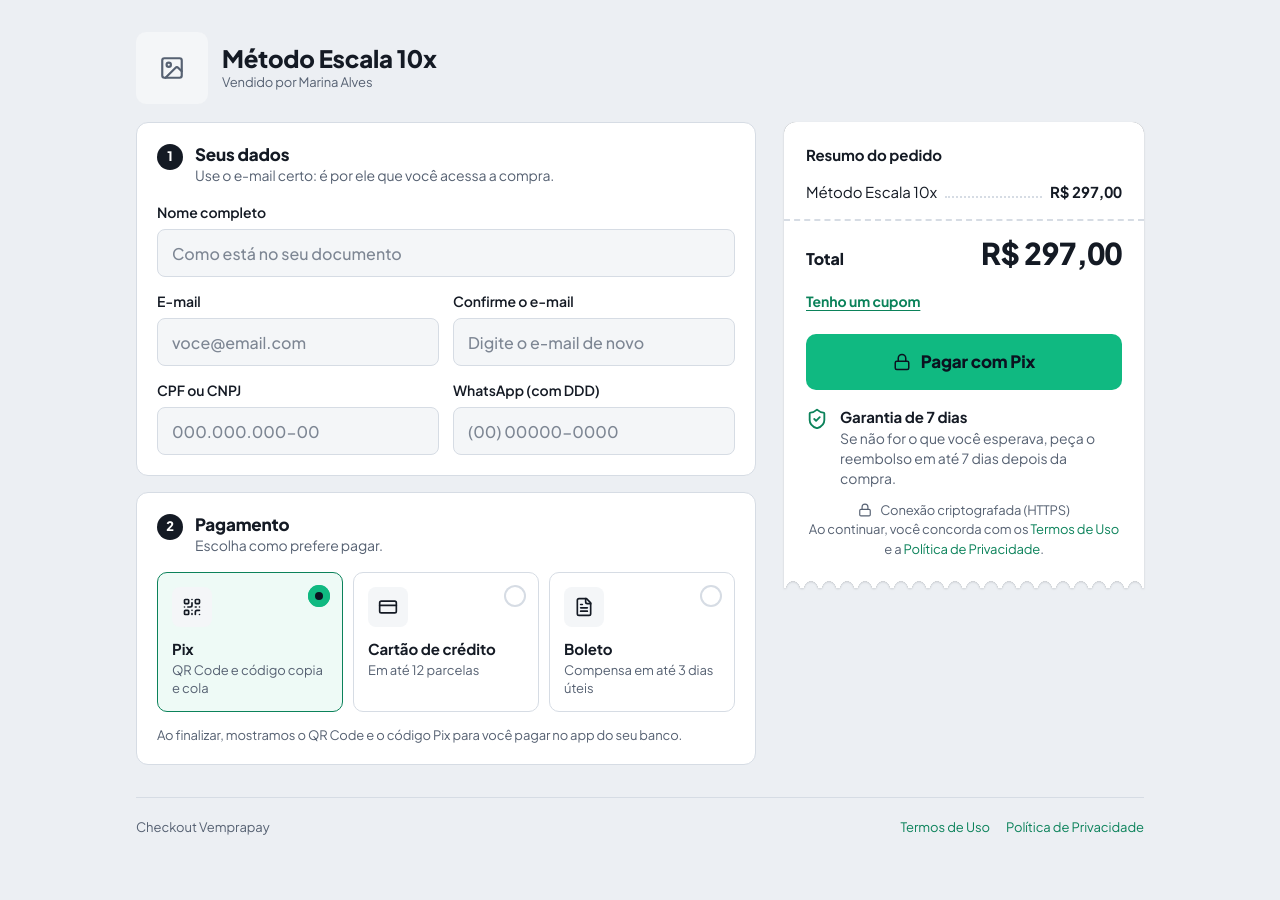
checkout público: preenchimento › pede a confirmação do e-mail quando o vendedor liga
Check: the heading "Método Escala 10x" is shown, box [222,43,437,73]
Step 1. Type "Maria Souza Lima" into the field labelled "Nome completo" → {"x": 446, "y": 253}, box [157,229,735,277]
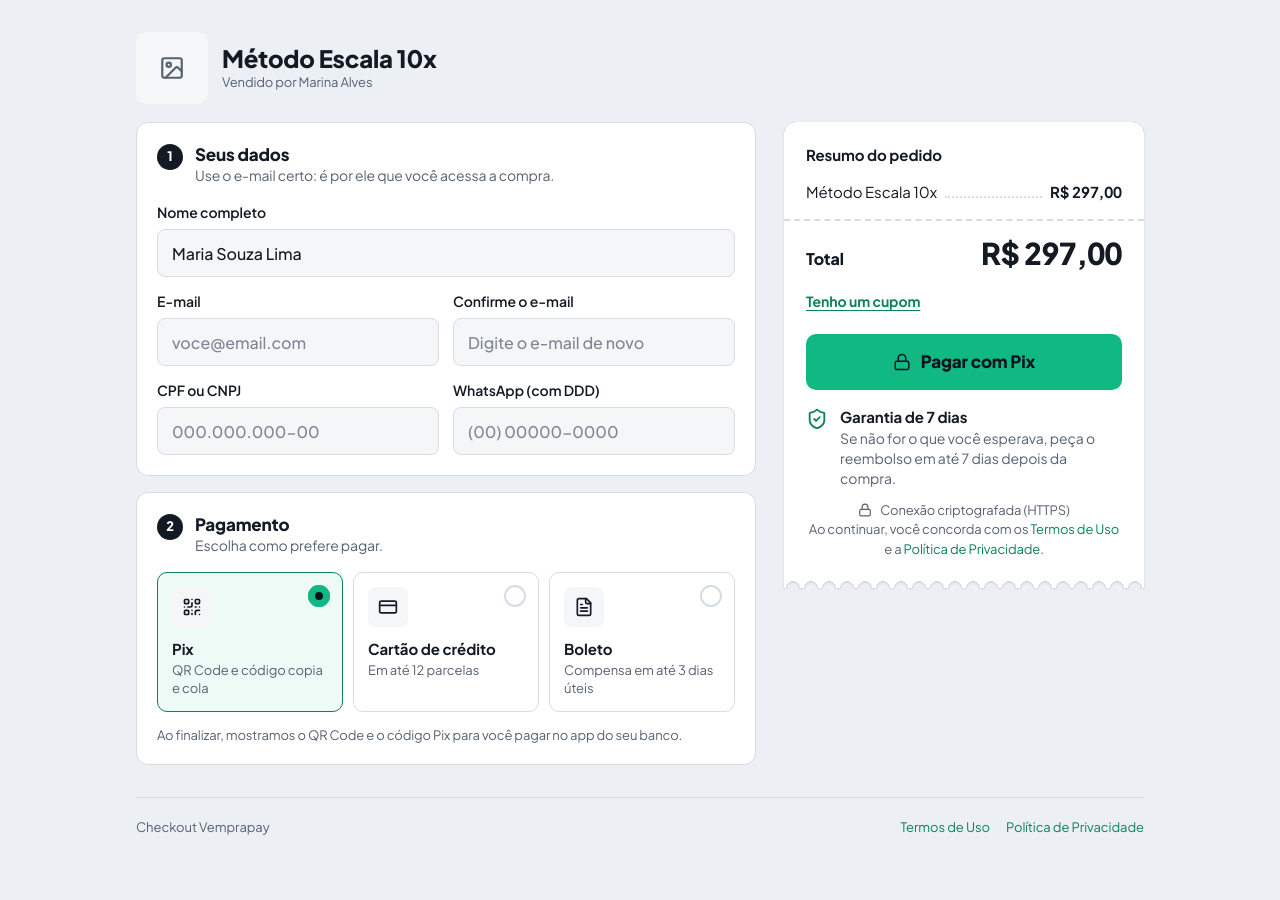
Step 2. Type "Maria@Exemplo.com" into the field labelled "E-mail" → {"x": 298, "y": 342}, box [157,318,439,366]
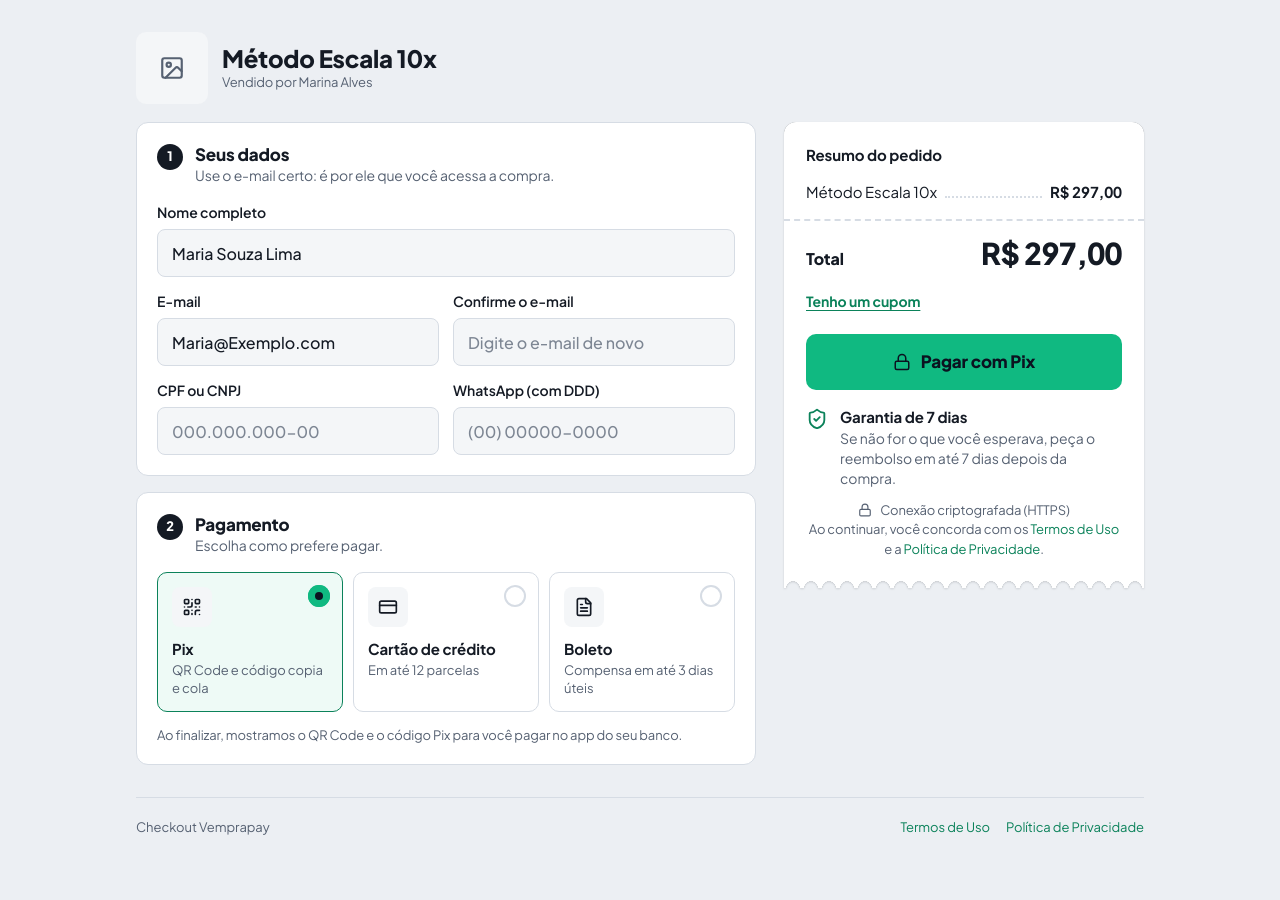
Step 3. Type "52998224725" into the field labelled "CPF ou CNPJ" → {"x": 298, "y": 431}, box [157,407,439,455]
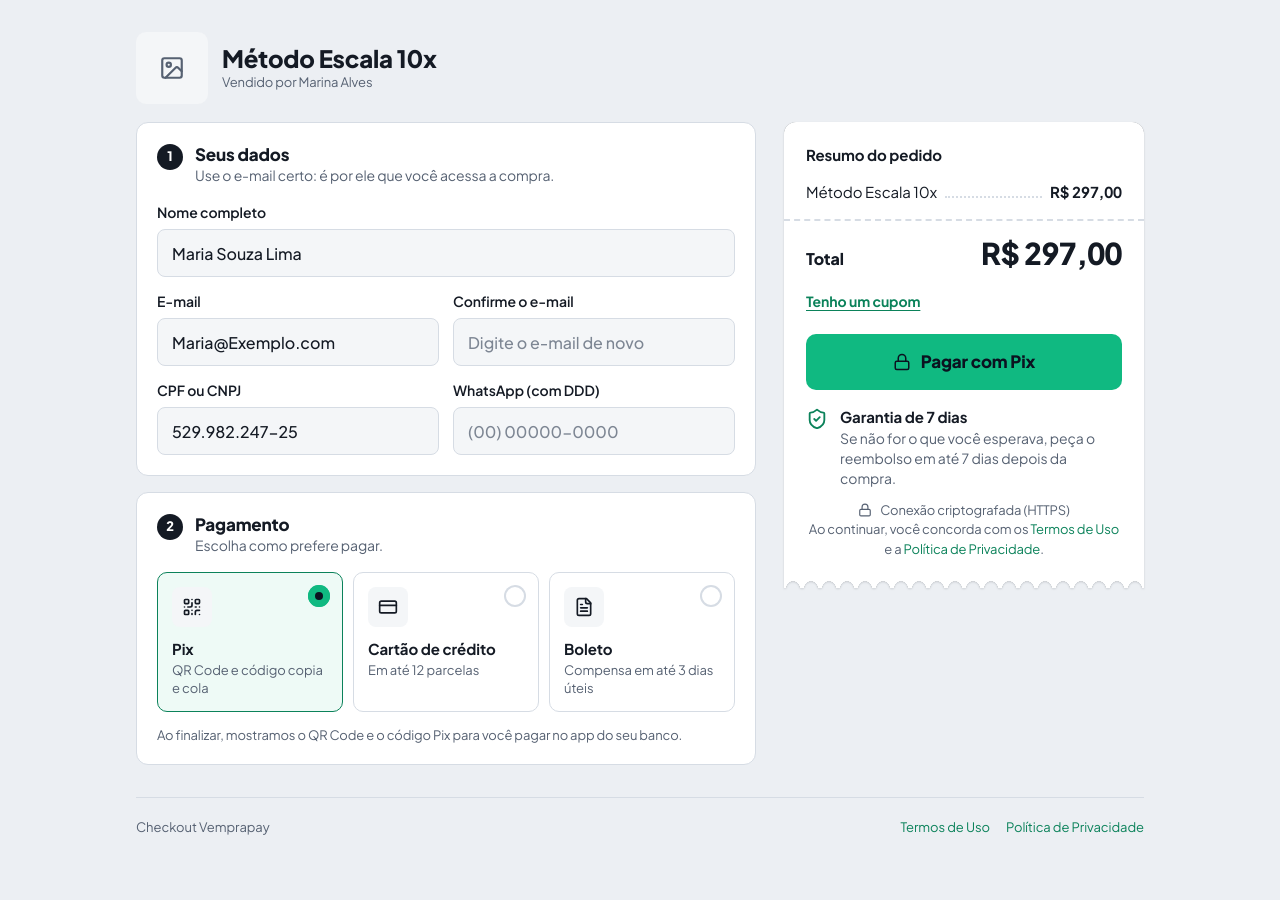
Step 4. Type "44999991234" into the field labelled "WhatsApp (com DDD)" → {"x": 594, "y": 431}, box [453,407,735,455]
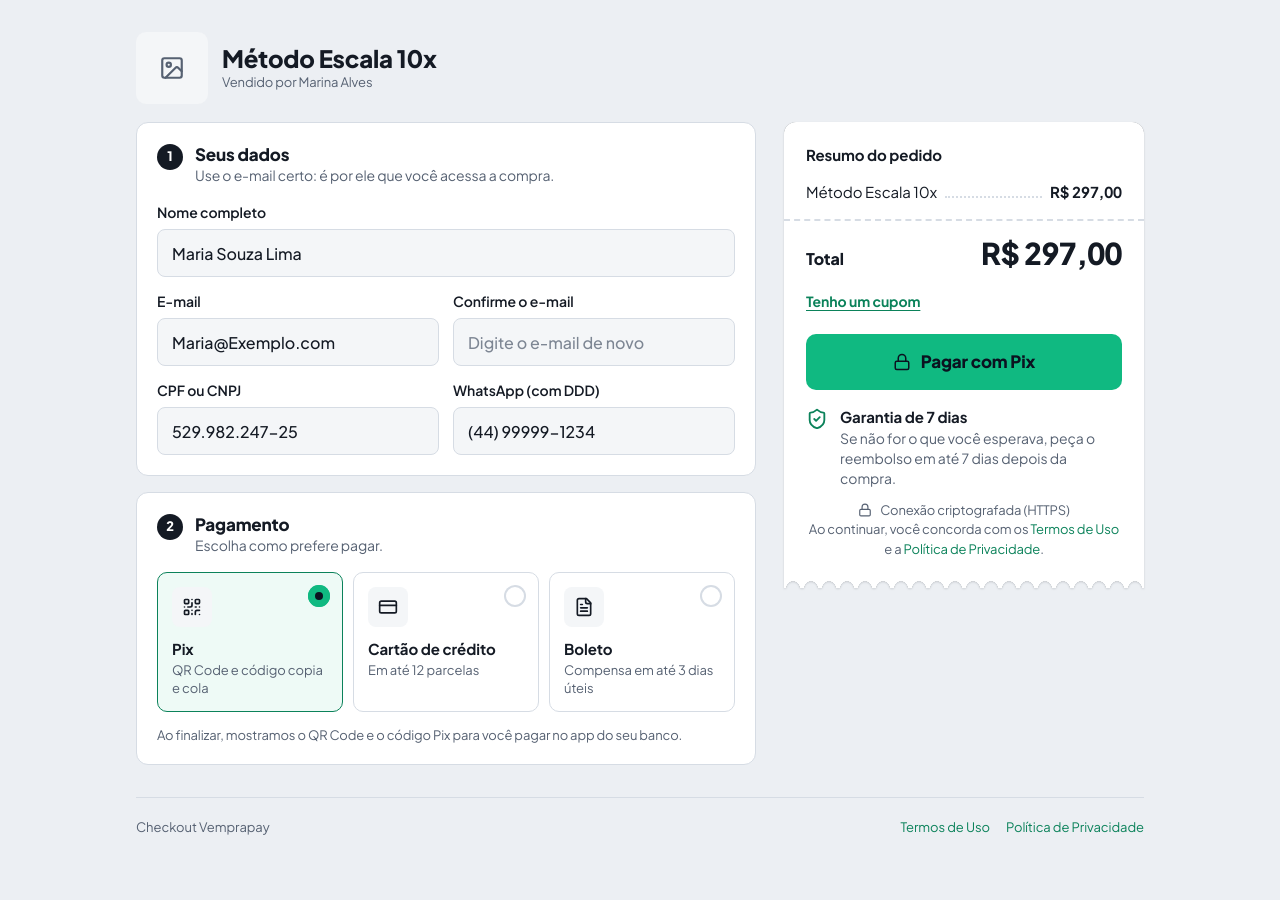
Step 5. Type "outro@exemplo.com" into the field labelled "Confirme o e-mail" → {"x": 594, "y": 342}, box [453,318,735,366]
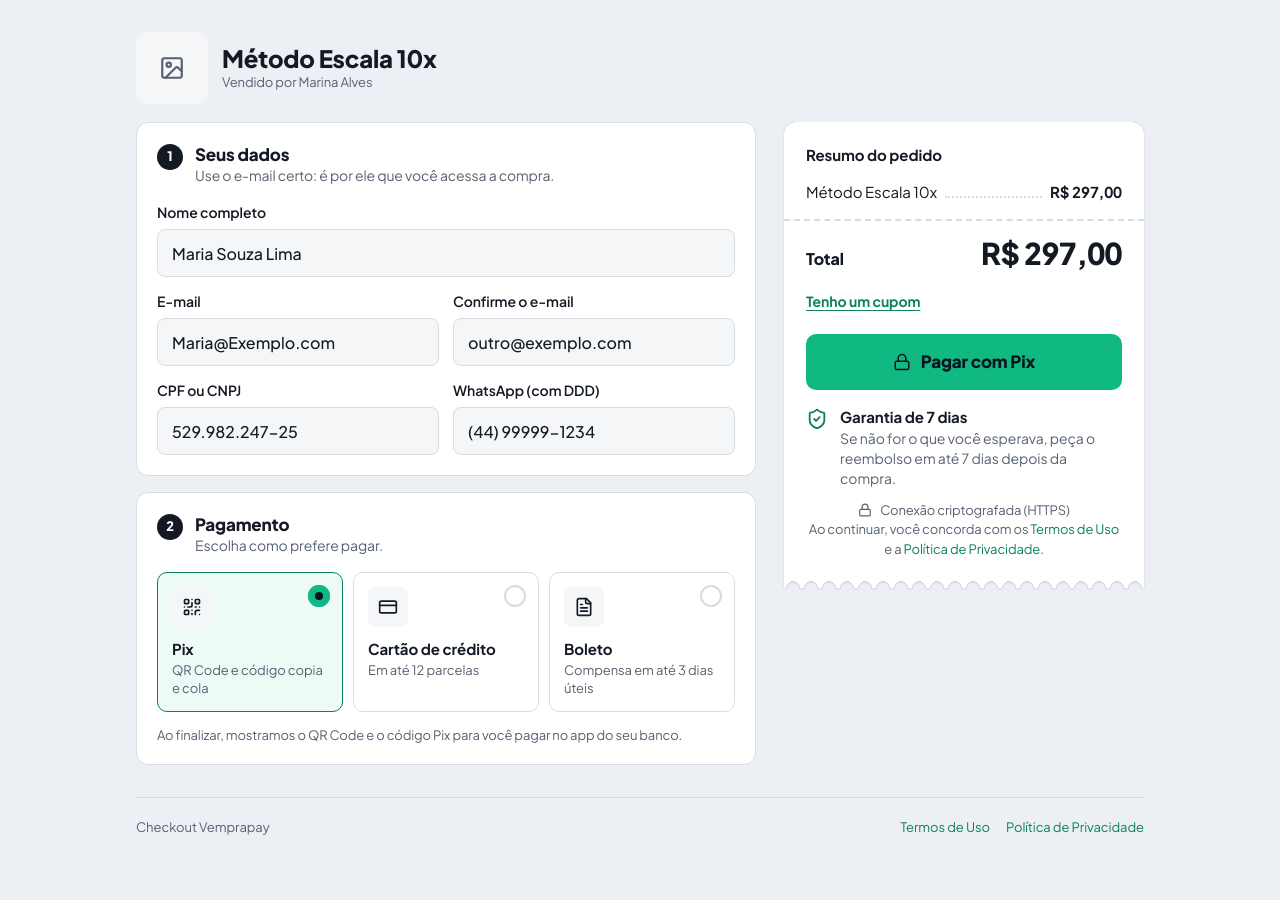
Step 6. Click the button "Pagar com Pix" → {"x": 964, "y": 362}, box [806,334,1122,390]
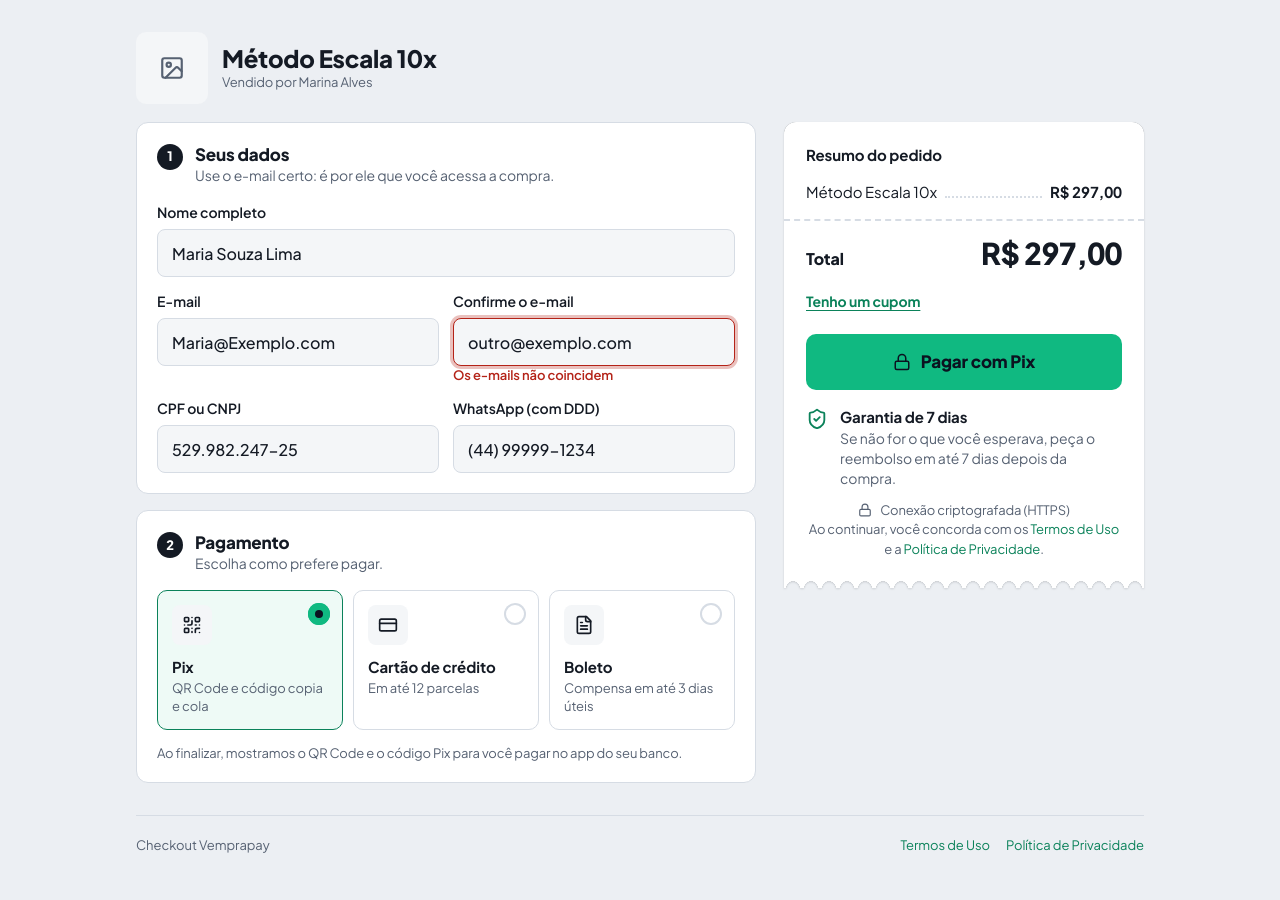
Check: the text "Os e-mails não coincidem" is shown, box [453,367,613,383]
